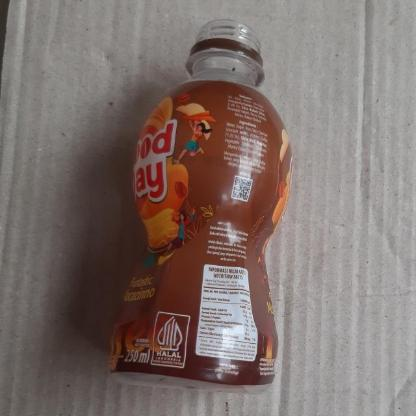Plastic Bottle: (110, 20, 294, 392)
